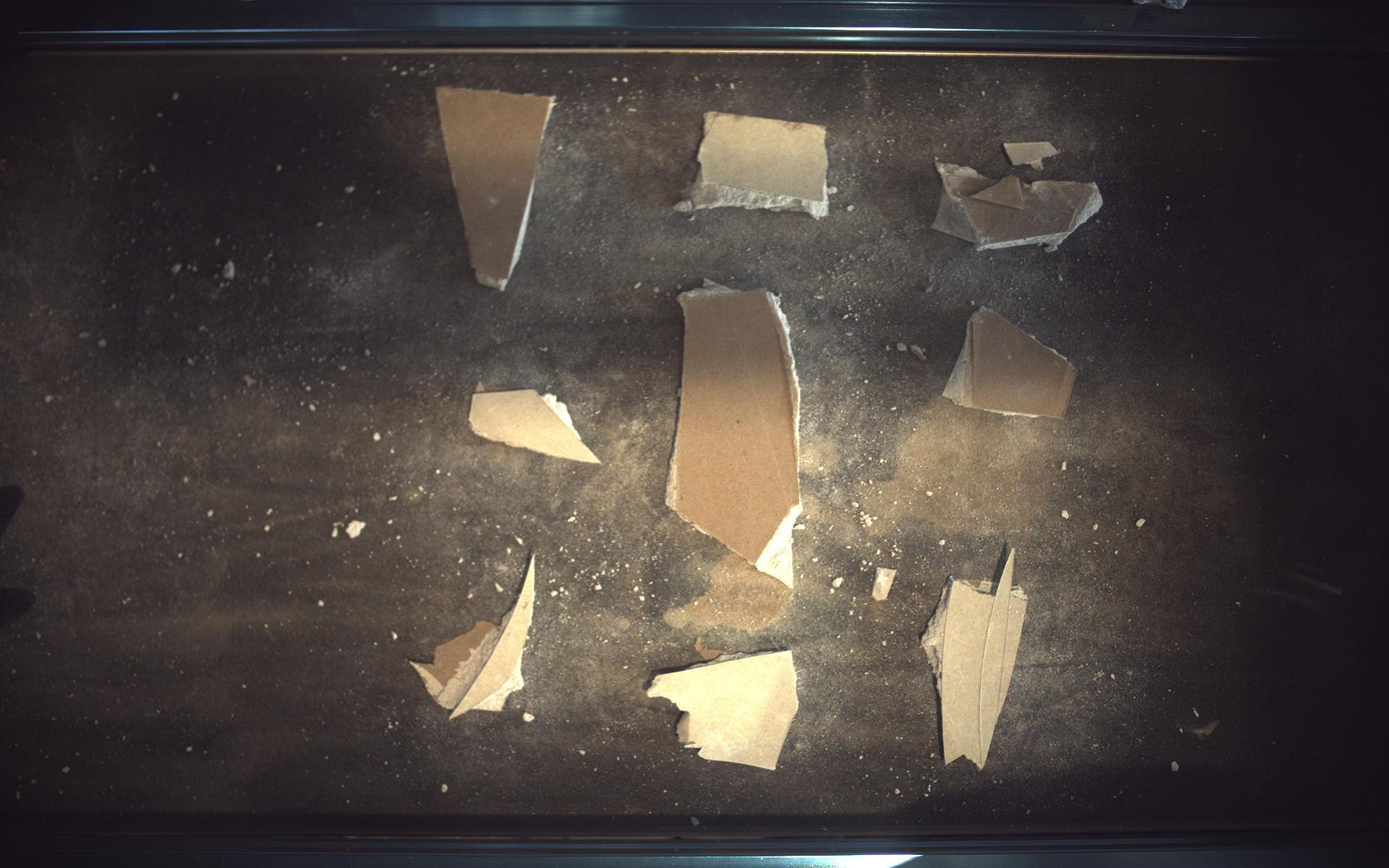gypsum_board: (667, 281, 803, 588), (436, 85, 556, 290), (923, 548, 1030, 770), (411, 556, 535, 720), (647, 651, 799, 771), (676, 111, 830, 218), (934, 160, 1105, 252), (944, 307, 1079, 419), (470, 389, 600, 464), (1006, 142, 1059, 166)
